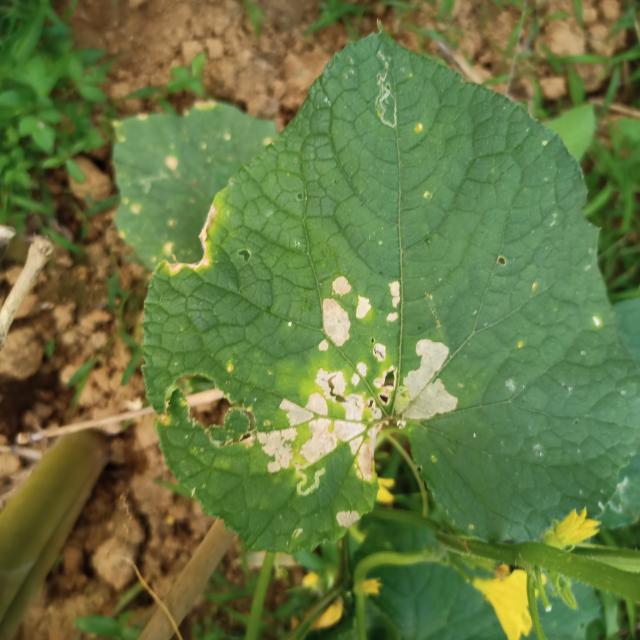disease_cucumber: (262, 267, 462, 483), (336, 508, 362, 532)
